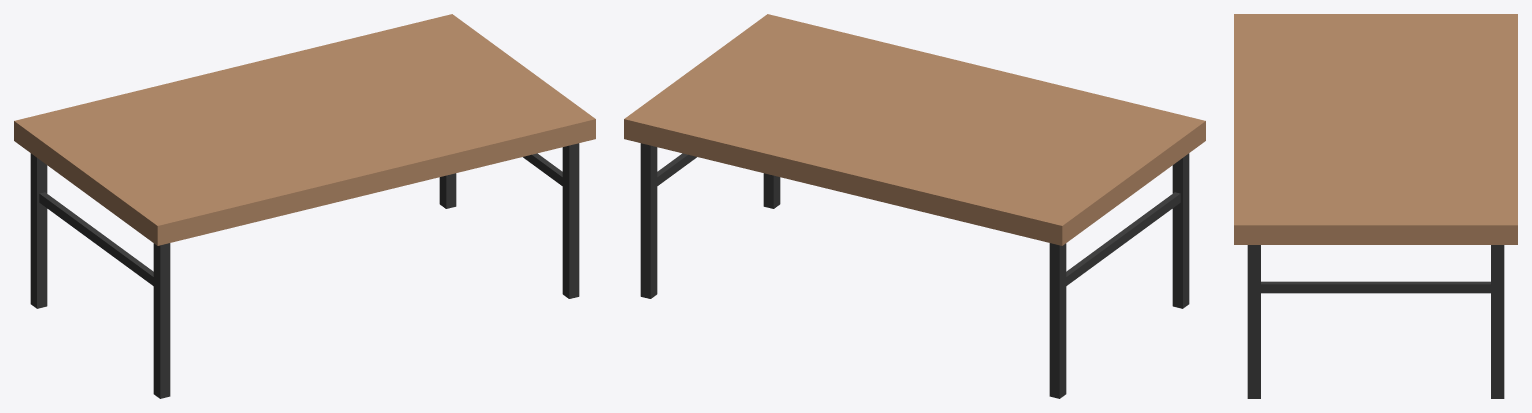
Rendered from biurko 1.fbx.
The picture shows the model from 3 angles, left to right: view 1: azimuth 30°, elevation 25°; view 2: azimuth 150°, elevation 25°; view 3: azimuth 270°, elevation 25°; orthographic projection.
Parts seen in each view (by area): view 1: Biurko; view 2: Biurko; view 3: Biurko.
Part boxes in pixels (bbox=[...]): Biurko: bbox=[14, 14, 595, 398]; Biurko: bbox=[624, 14, 1205, 398]; Biurko: bbox=[1234, 14, 1517, 398].
Size of the model in its own units: 289 by 114 by 164.
